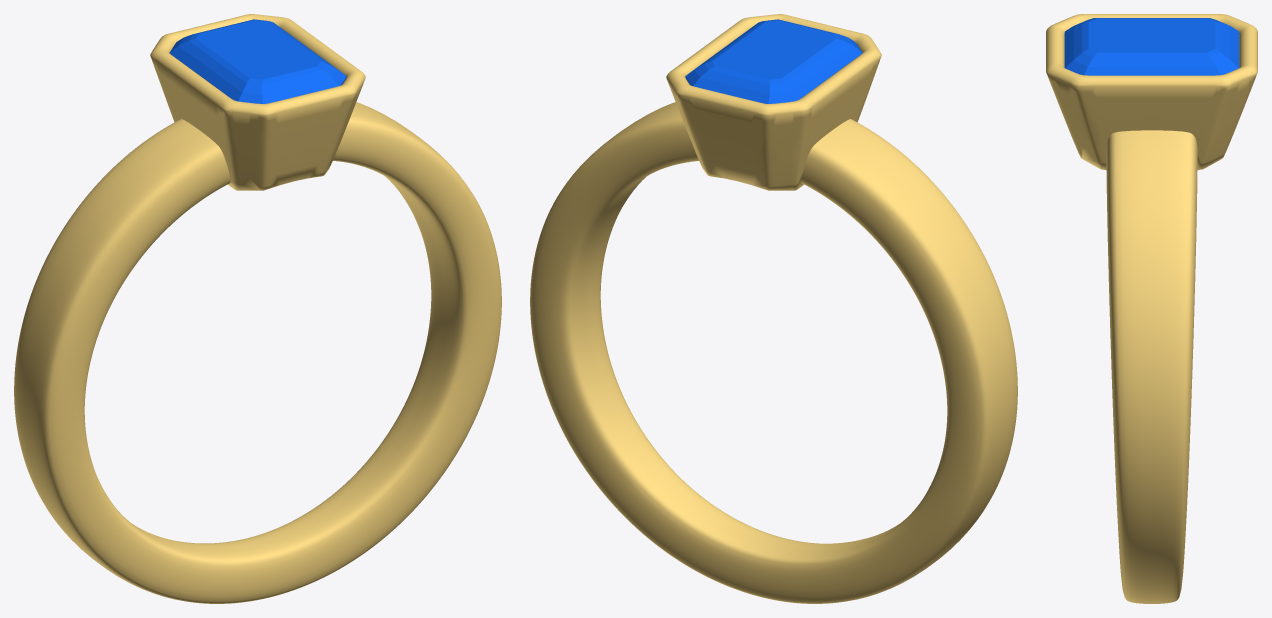
The model's file is bluesapphire-emerald-yellowgold-bezelset-straighttaperedband-solitaire.glb.
The picture shows the model from 3 angles, left to right: view 1: azimuth 30°, elevation 25°; view 2: azimuth 150°, elevation 25°; view 3: azimuth 270°, elevation 25°; orthographic projection.
Parts seen in each view (by area): view 1: metal.001, stone; view 2: metal.001, stone; view 3: metal.001, stone.
Part boxes in pixels (x1=…): metal.001: x1=14, y1=14, x2=501, y2=603; stone: x1=169, y1=19, x2=346, y2=103; metal.001: x1=530, y1=14, x2=1017, y2=603; stone: x1=685, y1=19, x2=862, y2=103; metal.001: x1=1046, y1=14, x2=1257, y2=603; stone: x1=1064, y1=18, x2=1239, y2=75.
Bounding box in the file's own units: 20.49 × 22.95 × 8.11.
